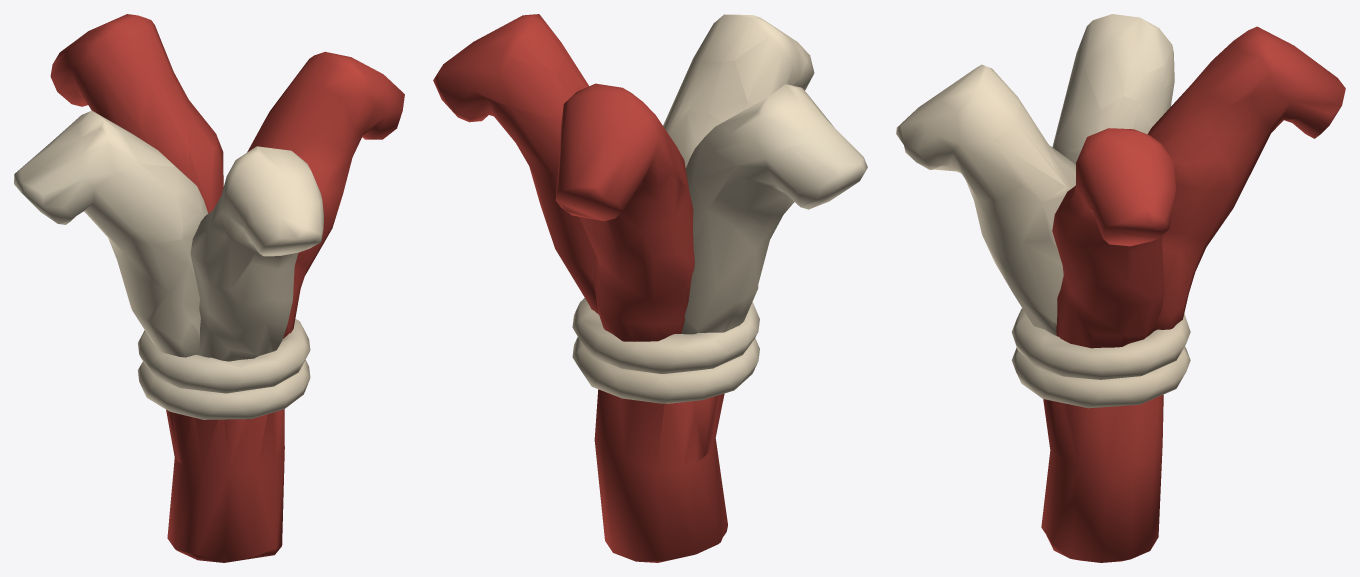
File: den_fringe_tassel_b_lod1.glb
3 views of the same model, side by side, from view 1: azimuth 30°, elevation 25°; view 2: azimuth 150°, elevation 25°; view 3: azimuth 270°, elevation 25° (orthographic). The views are drawn at different scales.
Visible parts, largest first — view 1: den_fringe_tassel_b.001; view 2: den_fringe_tassel_b.001; view 3: den_fringe_tassel_b.001.
Part boxes in pixels (x1,y1,x2,y2): den_fringe_tassel_b.001: [14, 14, 404, 562]; den_fringe_tassel_b.001: [433, 14, 867, 562]; den_fringe_tassel_b.001: [896, 14, 1345, 562].
Bounding box in the file's own units: 4.16 × 5 × 4.11.
